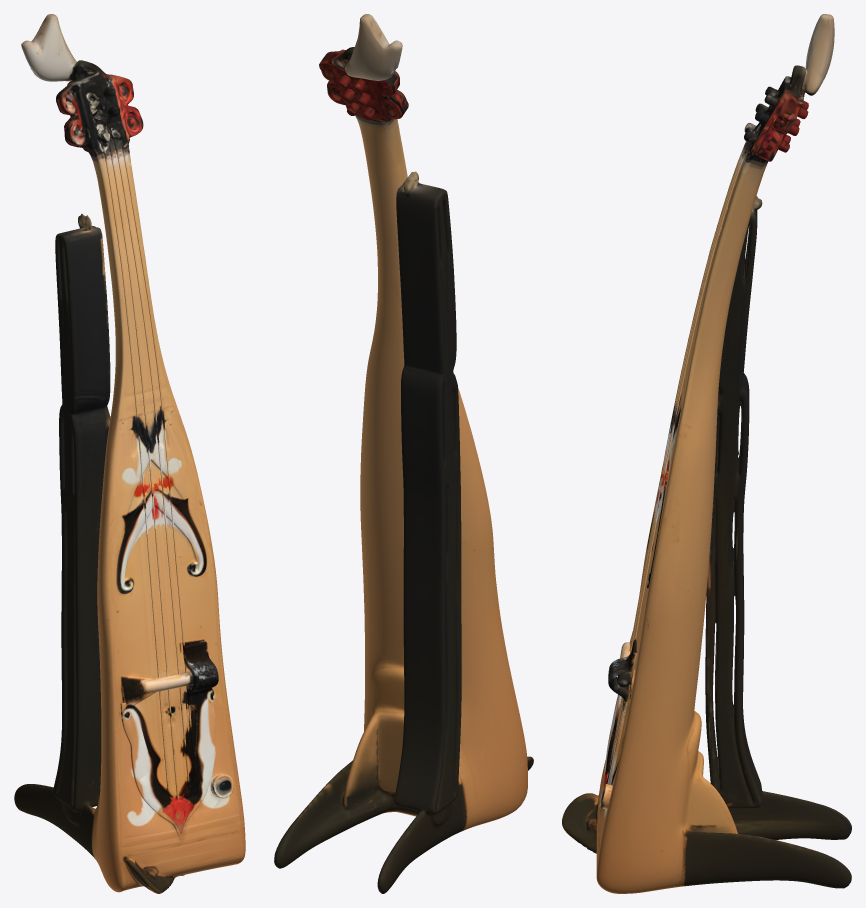
File: kalimantan-timur.glb
3 renders of one model, left to right at view 1: azimuth 30°, elevation 25°; view 2: azimuth 150°, elevation 25°; view 3: azimuth 270°, elevation 25°, orthographic. The views are drawn at different scales.
Parts seen in each view (by area): view 1: node_0; view 2: node_0; view 3: node_0.
Part boxes in pixels (<box>): node_0: <box>14,14,245,893</box>; node_0: <box>274,14,533,893</box>; node_0: <box>562,14,851,893</box>.
Size of the model in its own units: 0.1993 by 1.15 by 0.3591.
Materials: 1 (1 with a texture image).
